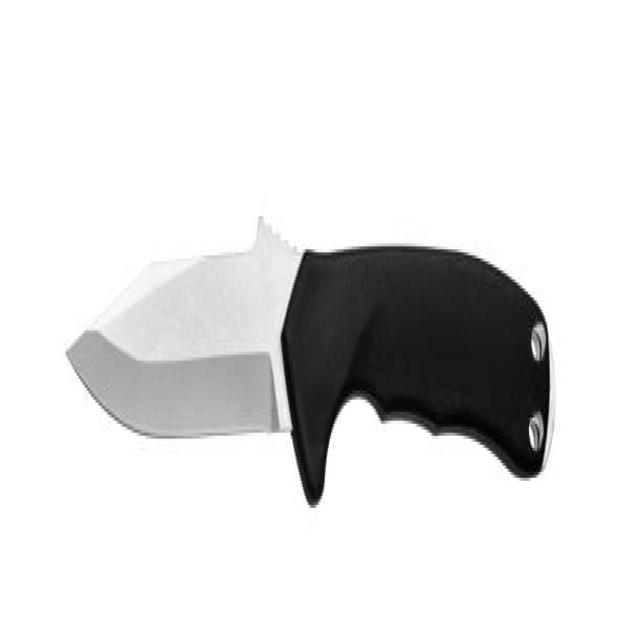knife: (63, 204, 559, 517)
